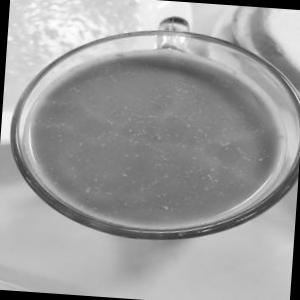coffee: (1, 9, 300, 255)
